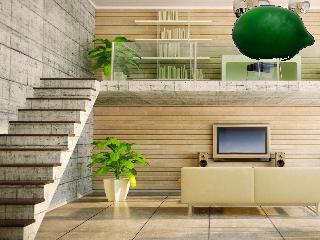lime: (233, 5, 315, 60)
